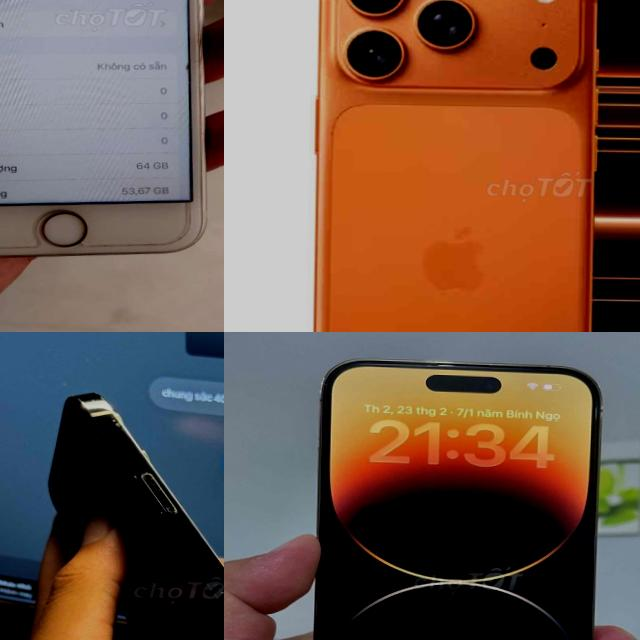scratch: (81, 399, 194, 532)
